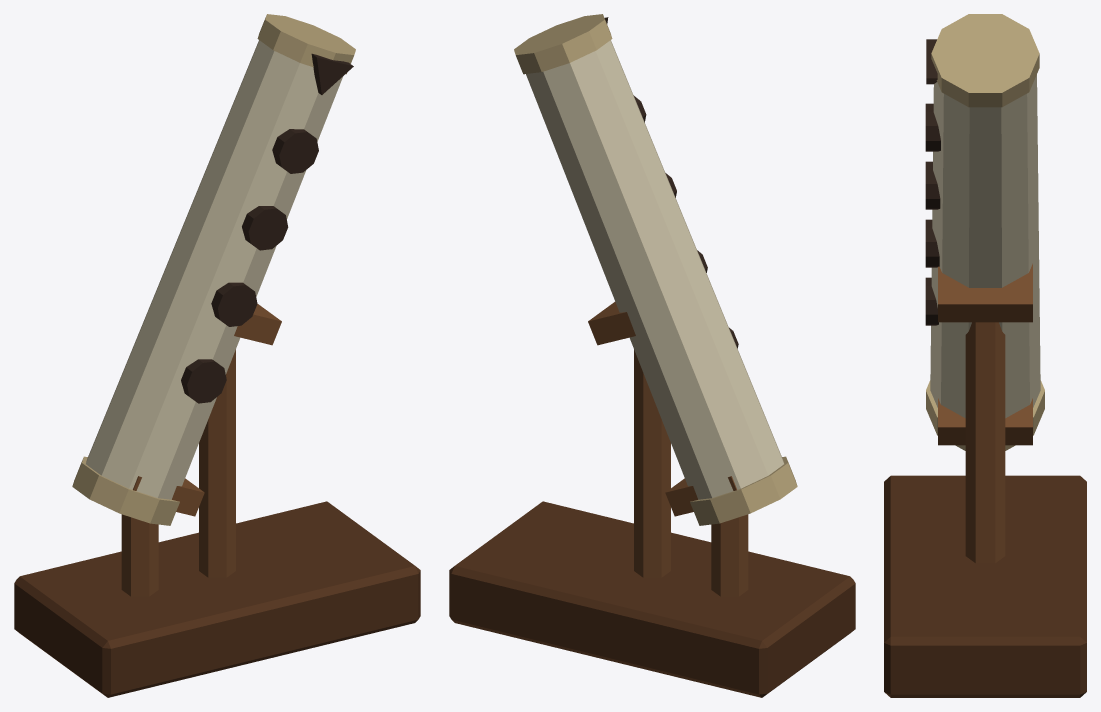
Rendered from flute.glb.
3 views of the same model, side by side, from view 1: azimuth 30°, elevation 25°; view 2: azimuth 150°, elevation 25°; view 3: azimuth 270°, elevation 25° (orthographic). The views are drawn at different scales.
Parts seen in each view (by area): view 1: flute; view 2: flute; view 3: flute.
Boxes of the visible parts, x1,y1,x2,y2 form: flute: (14,14,420,697); flute: (449,14,855,697); flute: (884,14,1086,697).
Bounding box in the file's own units: 0.7 × 1.24 × 0.36.
